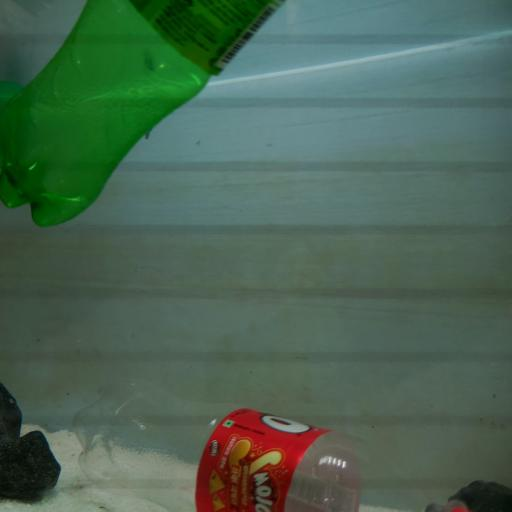plastic_bottle: (0, 0, 281, 229), (70, 377, 473, 512)
